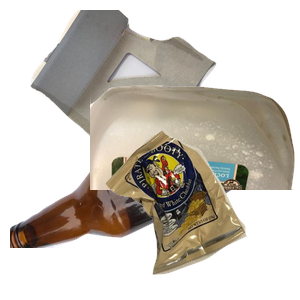glass: (10, 120, 247, 300)
paper: (28, 10, 268, 190)
plastic: (90, 82, 300, 262)
trash: (101, 127, 300, 300)
